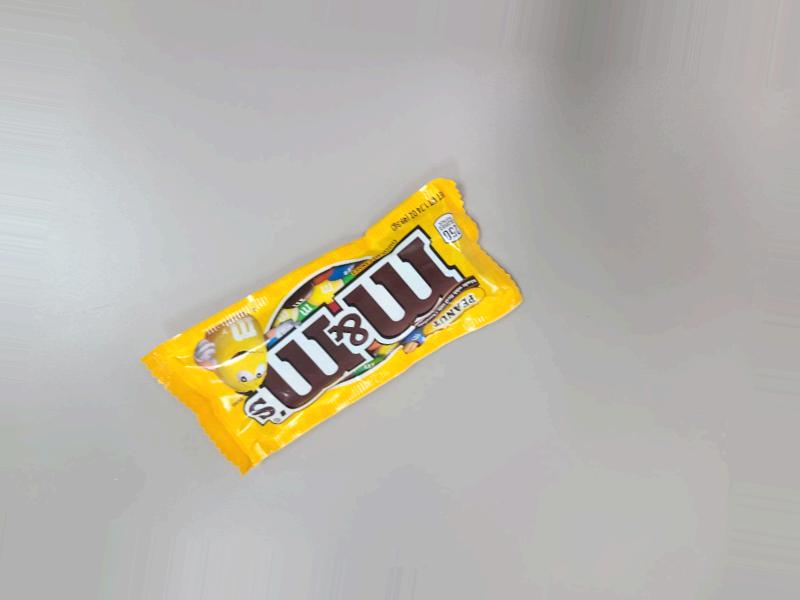m&m: (145, 172, 504, 483)
